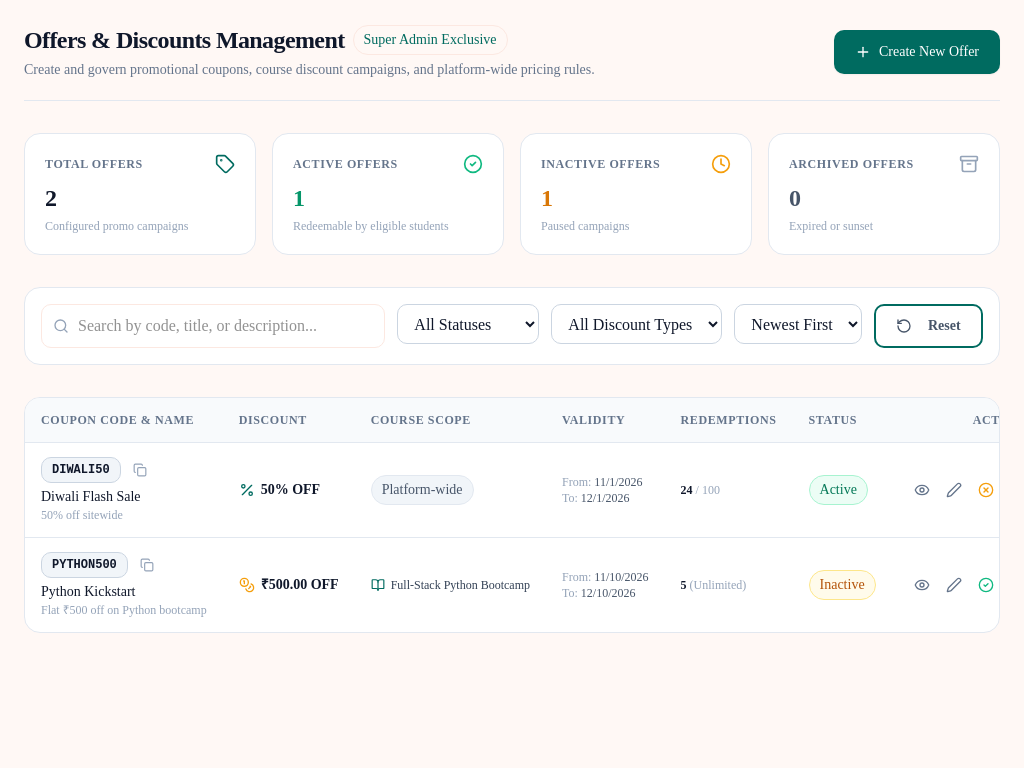
Test: Offers & Discounts Governance Page (SA-05.1) › opens inspection modal on clicking inspect button
Check: the text "DIWALI50" is shown, box x1=41 y1=457 x2=121 y2=483
Click the button titled "Inspect Offer Details" in the row of "Diwali Flash Sale". click: (922, 490)
box: x1=908 y1=476 x2=936 y2=504
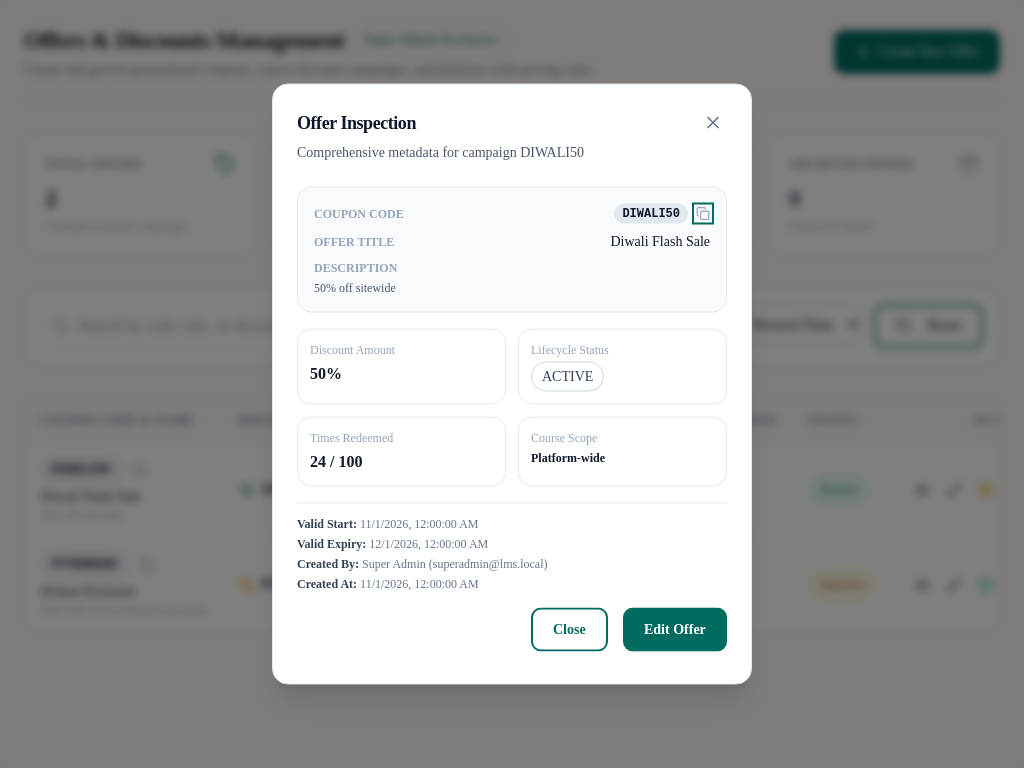
Check: the heading "Offer Inspection" is shown, box x1=297 y1=112 x2=416 y2=132
Check: the text "Comprehensive metadata for campaign DIWALI50" is shown, box x1=297 y1=144 x2=584 y2=160
Check: the text "Super Admin (superadmin@lms.local)" is shown, box x1=297 y1=556 x2=548 y2=570
